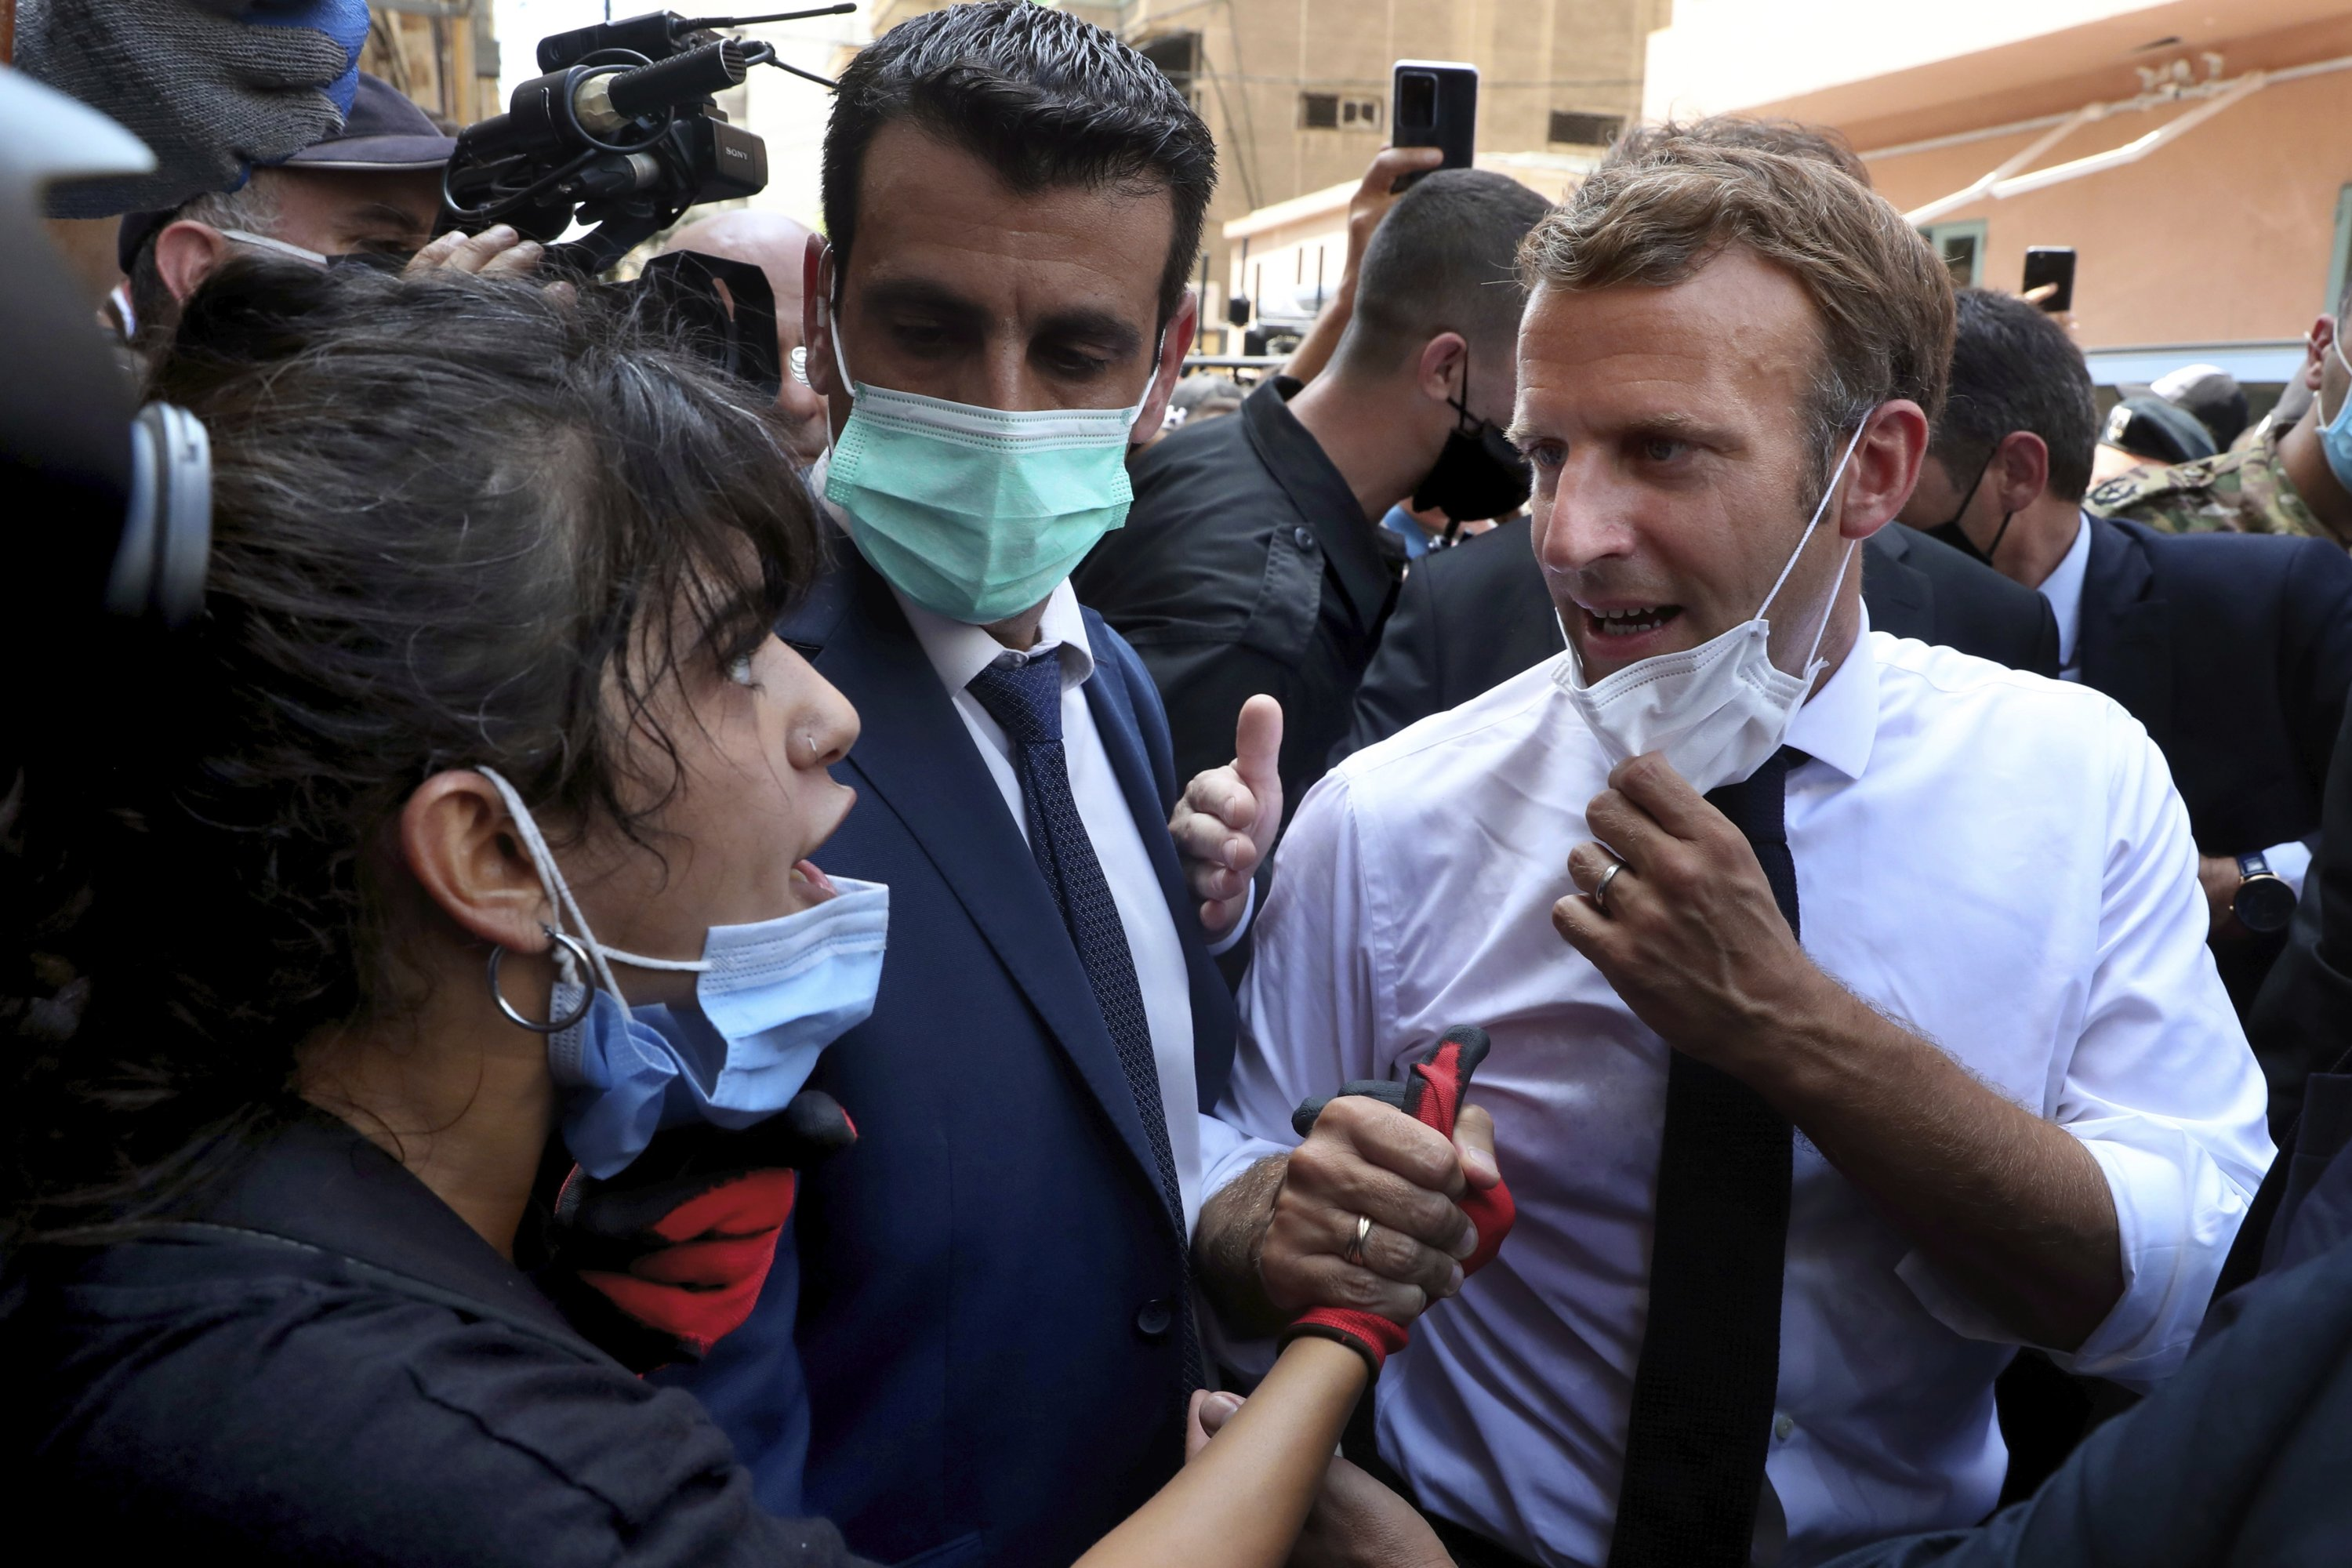with_incorrect_mask: (1518, 351, 1819, 735), (674, 586, 869, 1062)
with_mask: (859, 227, 1131, 543)
